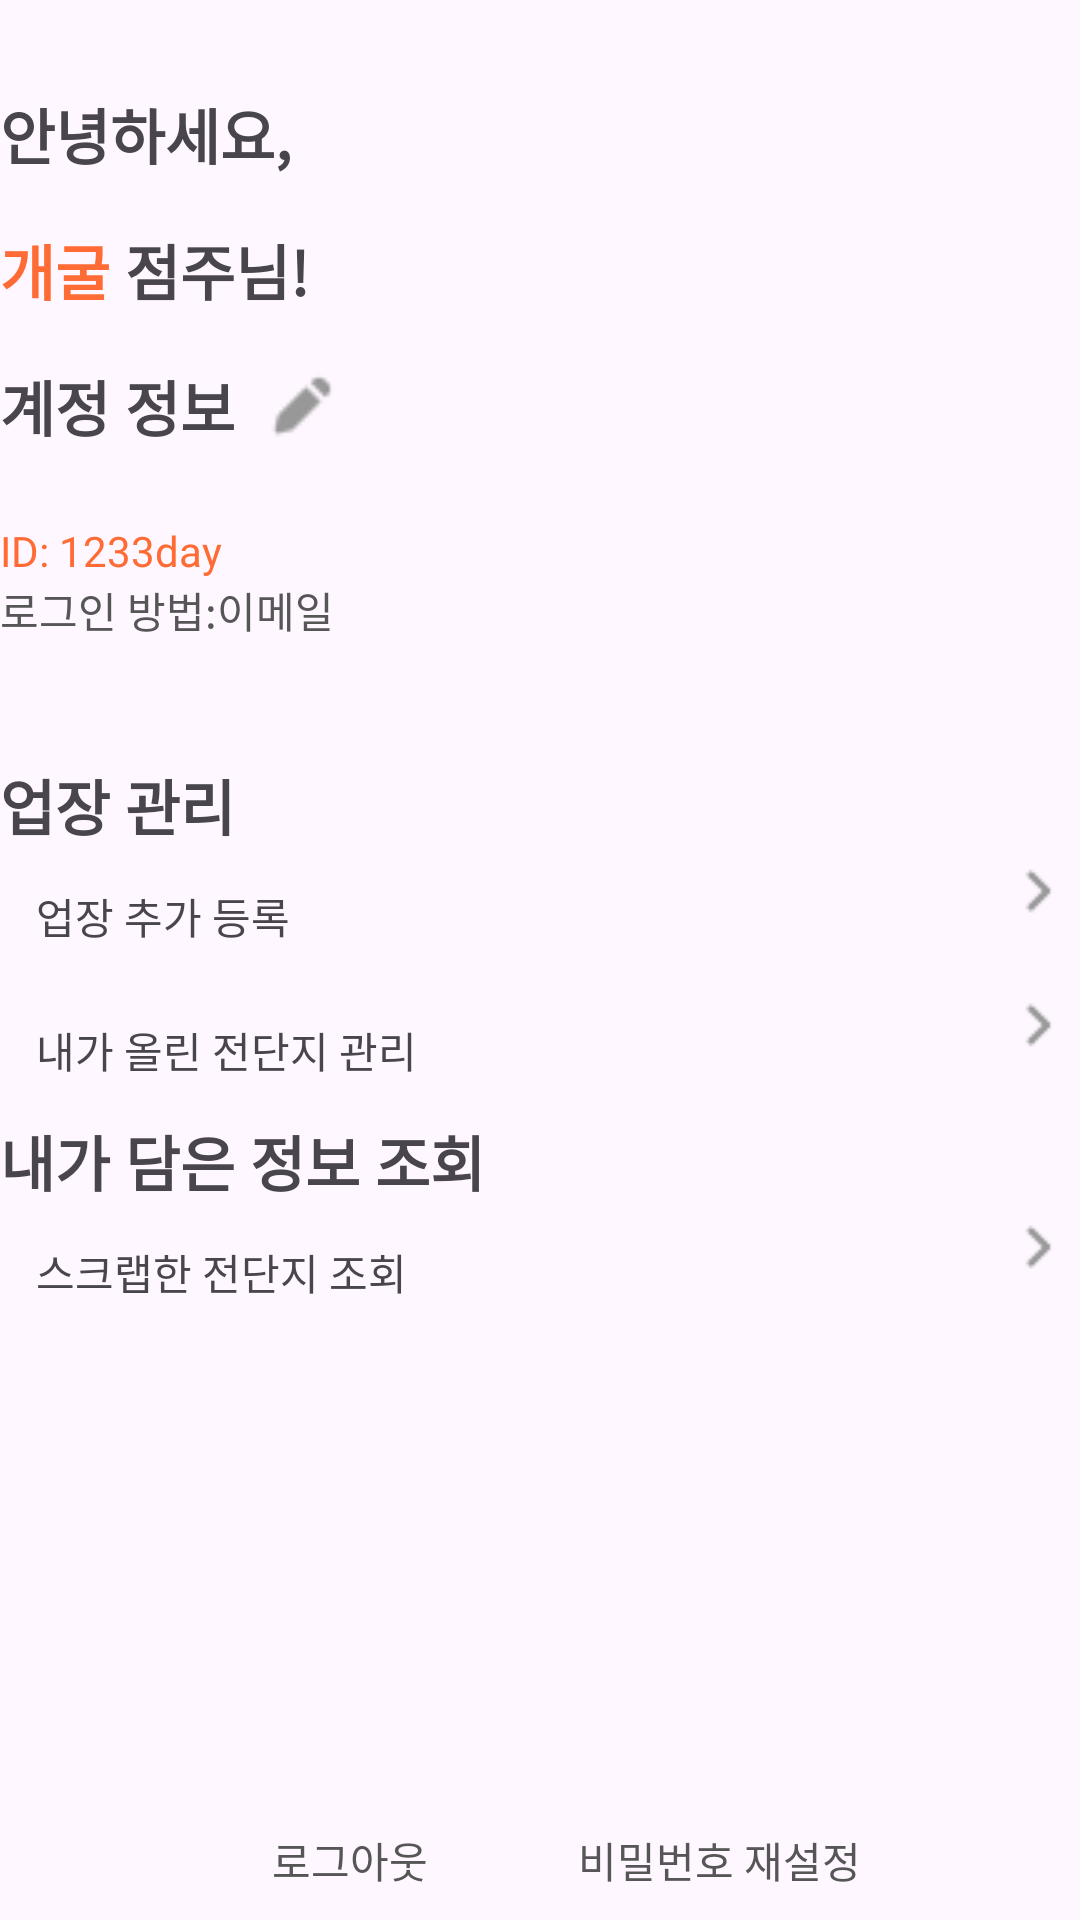

Where icons sit on this 1080px x 1920px app screen, as Rect(x1, y1, x2, y2):
gotoarrow: Rect(1026, 870, 1051, 912), Rect(1026, 1004, 1051, 1046), Rect(1026, 1226, 1051, 1268)
pencil: Rect(274, 377, 331, 435)
